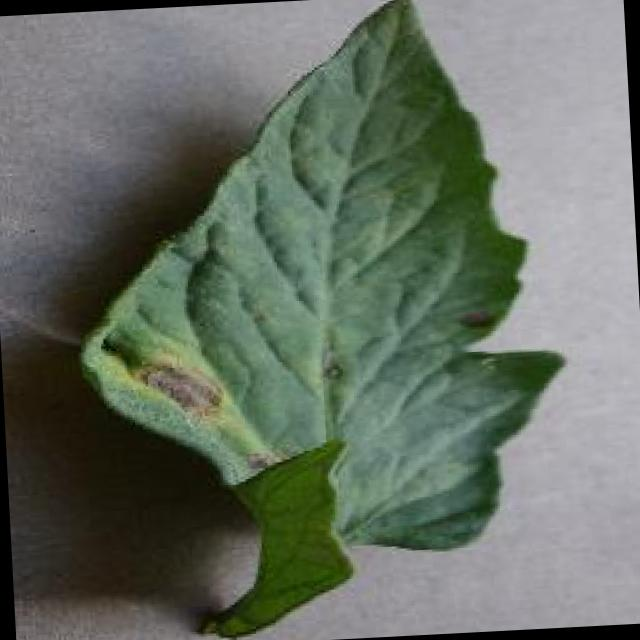Tomato_Early_Blight: (53, 144, 425, 580)
